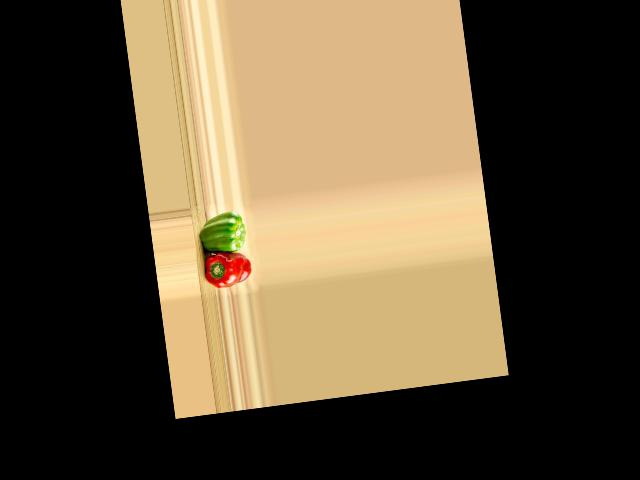bell_pepper: (202, 247, 253, 290)
